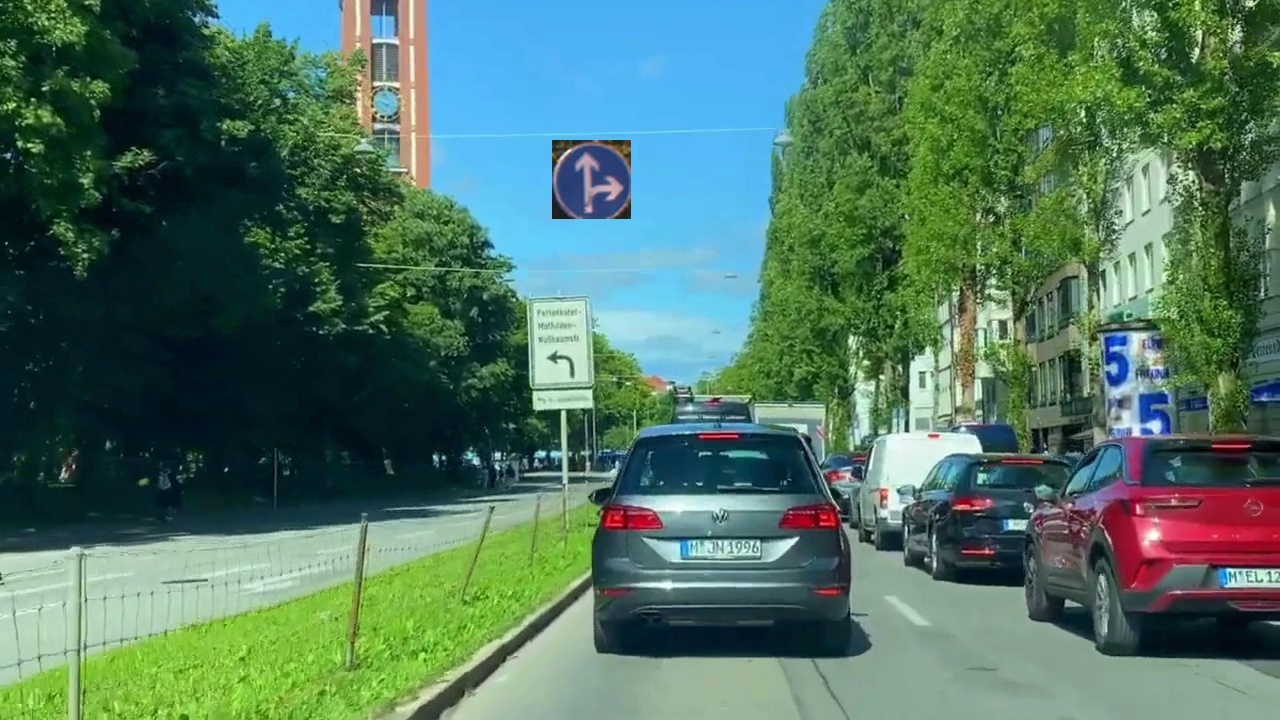Straight/right: (552, 140, 631, 219)
